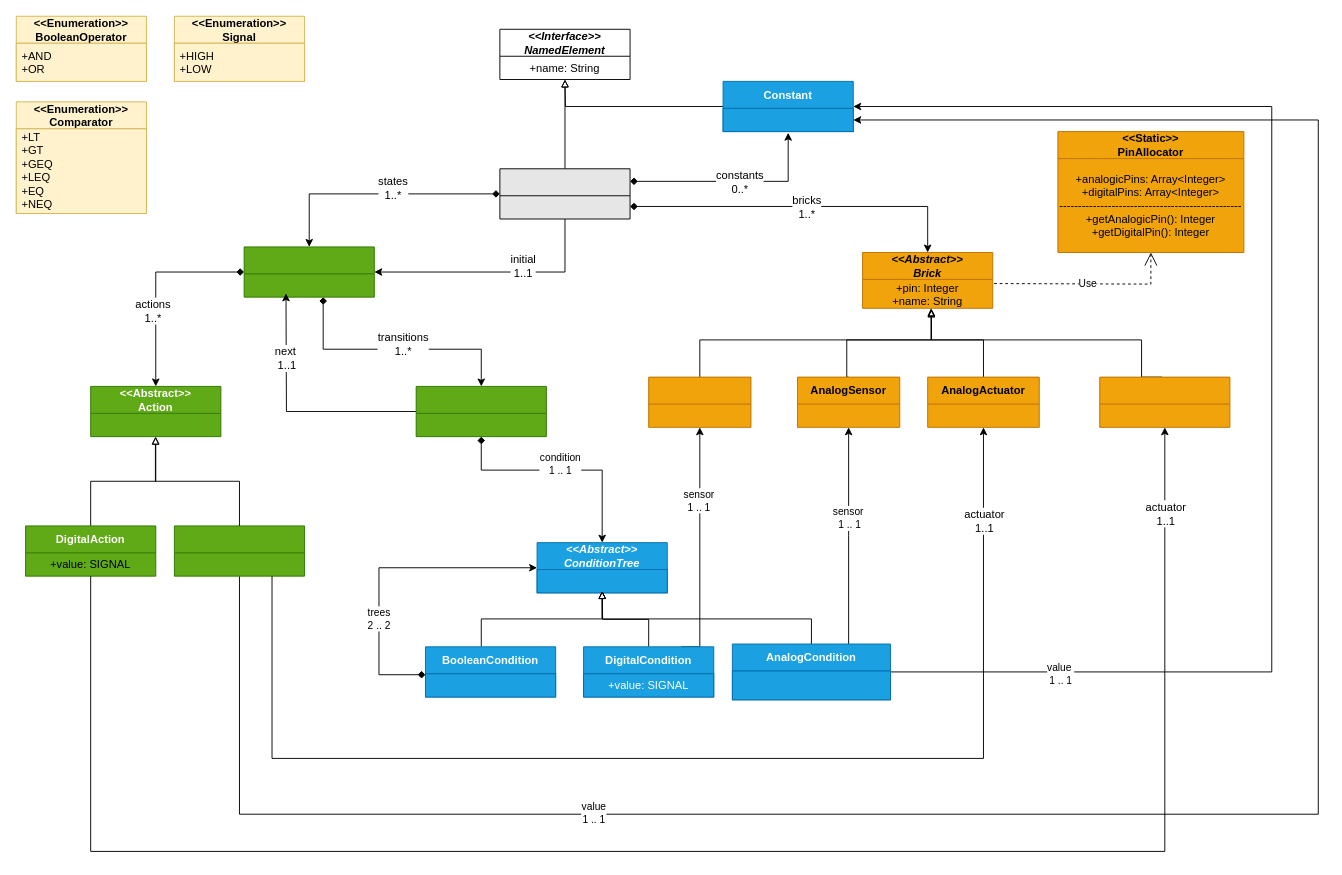
Some shapes in this 1342 by 875 pixel diagram are drawn without their labels. The shapes that lost their labels are listed below. From the top down, each one's centre as x and y in pixels, then its label:
At (x=787, y=119): "+value: float".
At (x=564, y=193): "App".
At (x=308, y=271): "State".
At (x=480, y=411): "Transition".
At (x=699, y=401): "DigitalSensor".
At (x=1164, y=401): "DigitalActuator".
At (x=239, y=550): "AnalogAction".
At (x=490, y=685): "+value: OPERATOR".
At (x=810, y=685): "+comparator: COMPARATOR".
